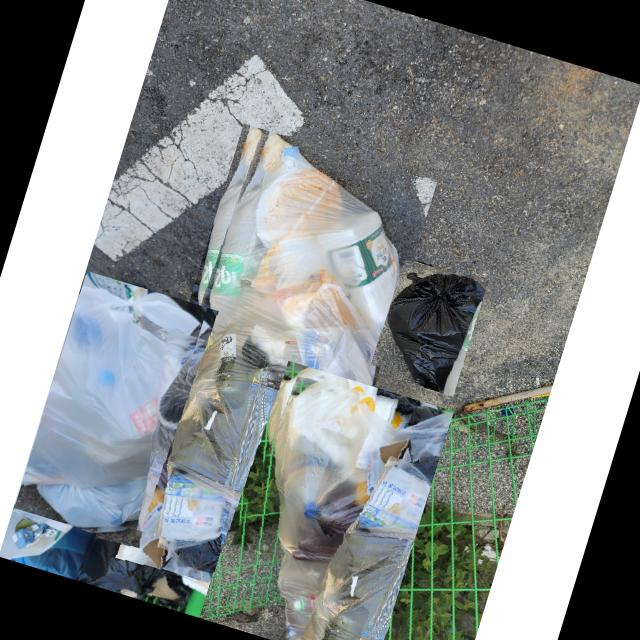other_trashbag: (152, 130, 395, 591), (269, 376, 451, 640), (22, 285, 195, 525), (386, 270, 484, 388), (75, 529, 169, 596)
